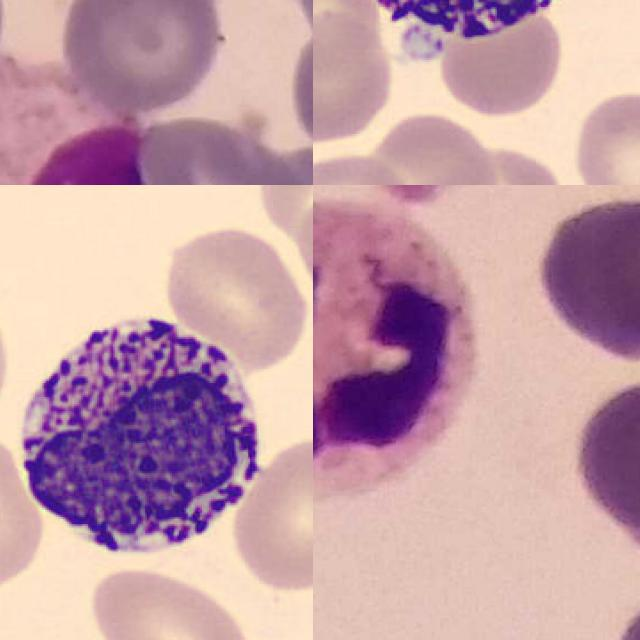Basophil: (8, 300, 273, 575), (331, 0, 608, 77)
Neutrophil: (313, 203, 479, 493), (0, 62, 164, 185)
RBC: (158, 221, 312, 372), (435, 0, 568, 118), (227, 430, 313, 599), (84, 566, 255, 640), (313, 7, 395, 148), (354, 109, 500, 185), (0, 427, 49, 594), (567, 84, 640, 185), (420, 139, 571, 185), (313, 148, 415, 185)
